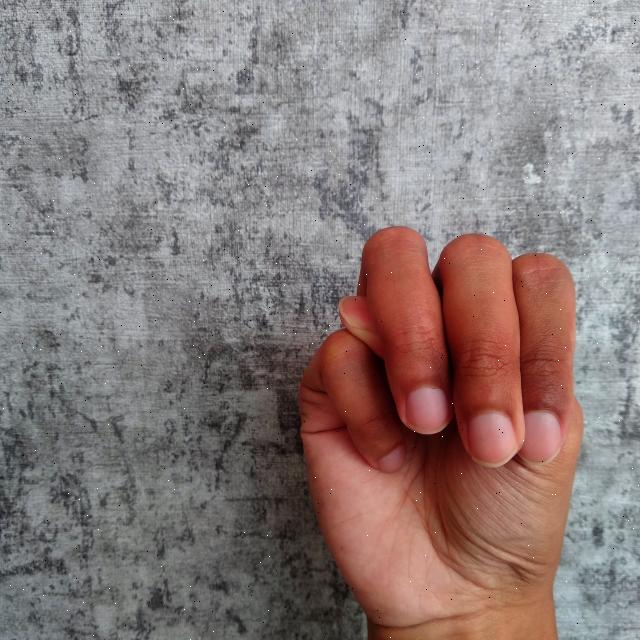M: (288, 215, 585, 640)
